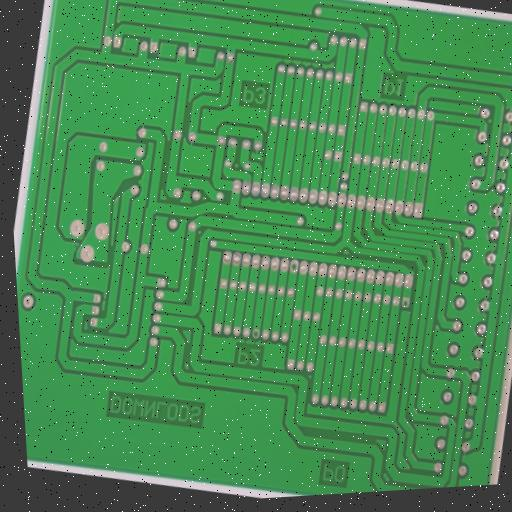missing_hole: (288, 258, 301, 274), (399, 295, 413, 309), (250, 327, 263, 341)
